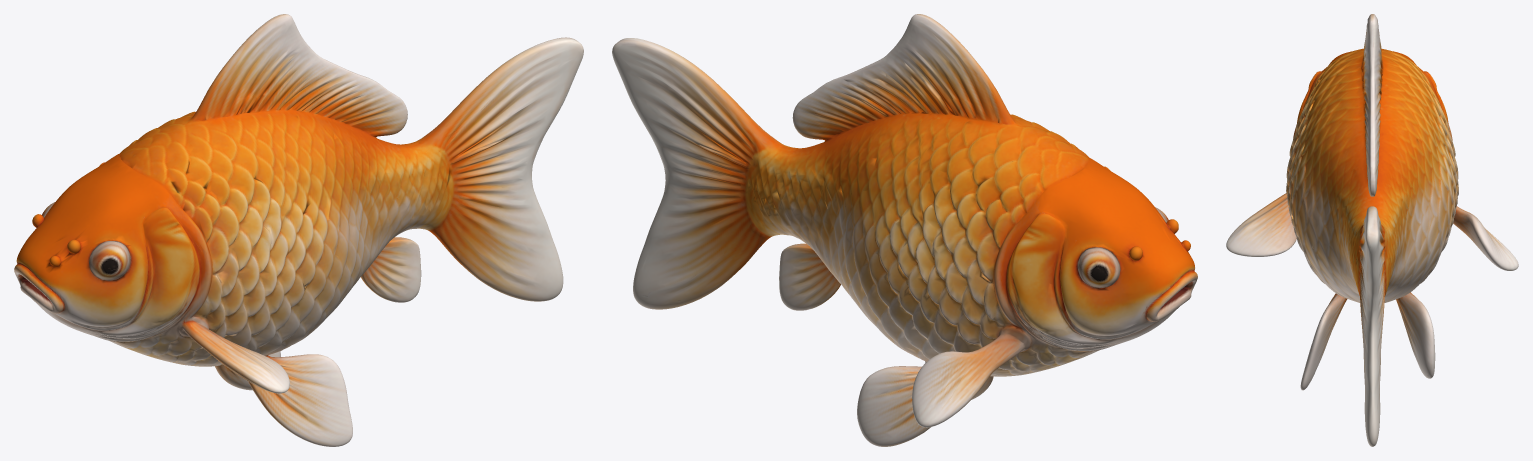
The model's file is goldfish.glb.
3 views of the same model, side by side, from view 1: azimuth 30°, elevation 25°; view 2: azimuth 150°, elevation 25°; view 3: azimuth 270°, elevation 25° (orthographic). The views are drawn at different scales.
Size of the model in its own units: 1.14 by 0.791 by 0.576.
1 material, 1 textured.
